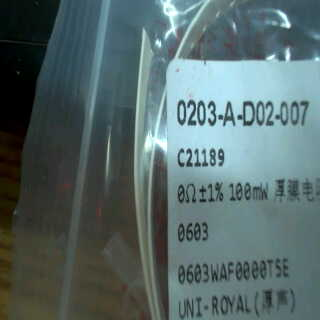0R: (170, 180, 276, 247)
